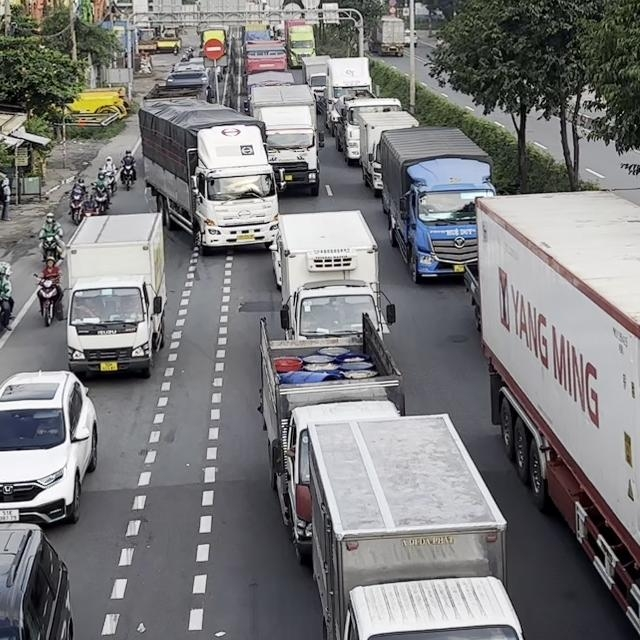car: (0, 368, 98, 526), (0, 521, 74, 639)
motorcycle: (32, 272, 63, 327), (38, 230, 64, 262), (67, 191, 86, 224), (119, 159, 136, 190), (94, 186, 108, 214)
truck: (466, 188, 639, 639), (304, 410, 524, 639), (262, 313, 406, 562), (137, 96, 279, 255), (378, 125, 497, 283), (62, 211, 167, 378), (269, 209, 395, 338), (249, 83, 322, 196), (357, 110, 419, 197), (332, 96, 402, 165), (324, 56, 373, 133), (300, 54, 331, 113), (285, 19, 316, 68)
